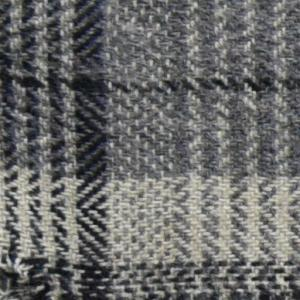Damage: (1, 253, 57, 300)
